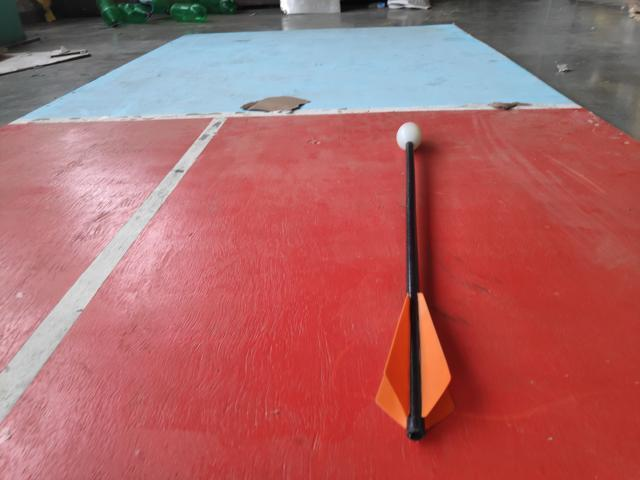Head: (394, 120, 424, 153)
Tail: (372, 289, 455, 441)
